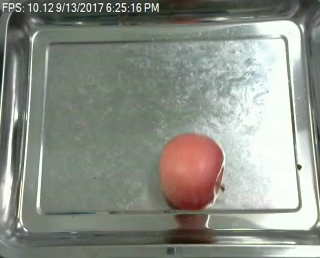Apple: (156, 129, 224, 217)
